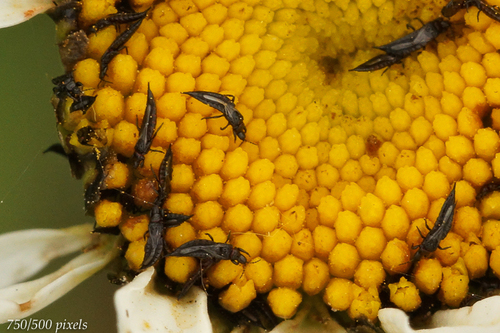Phlaeothripidae: (404, 184, 457, 270), (165, 235, 258, 276), (184, 85, 248, 144), (376, 16, 455, 57), (125, 78, 159, 171), (94, 18, 144, 78), (139, 201, 168, 271), (83, 6, 150, 35), (343, 55, 406, 74)
